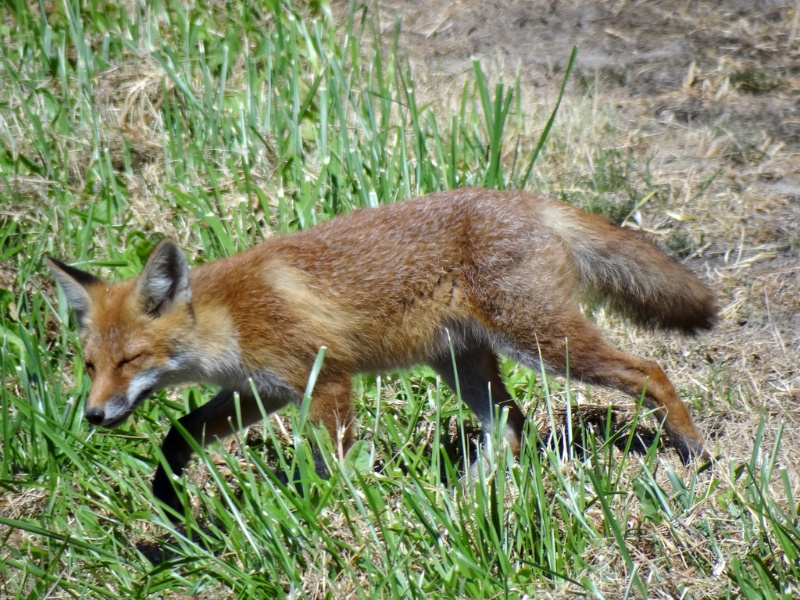fox: (46, 185, 725, 526)
